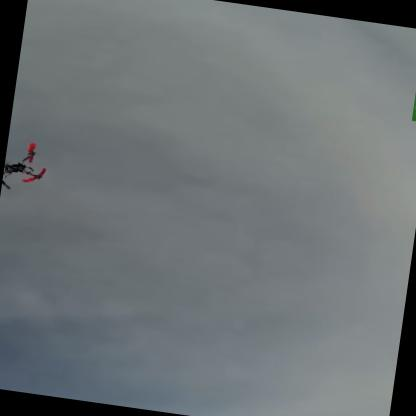drone: (0, 134, 58, 201)
